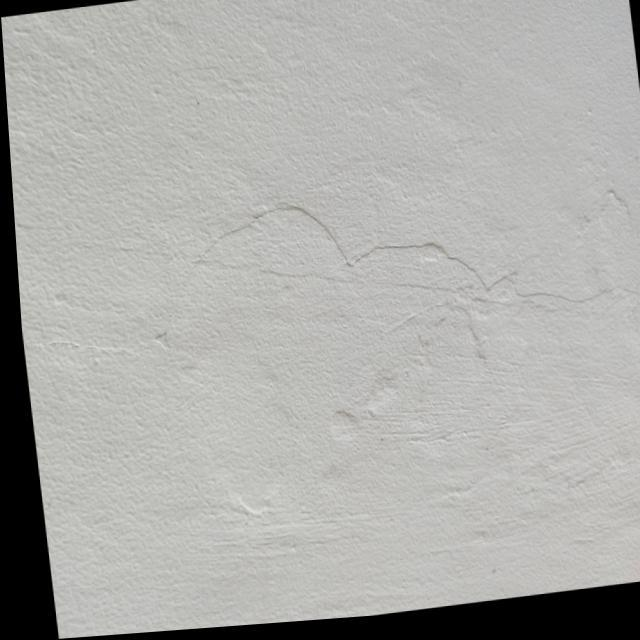Crack: (197, 189, 620, 307)
